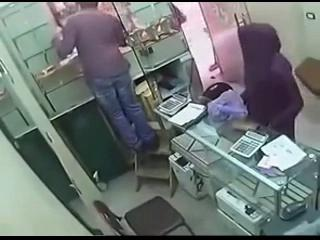Normal: (53, 3, 160, 154)
